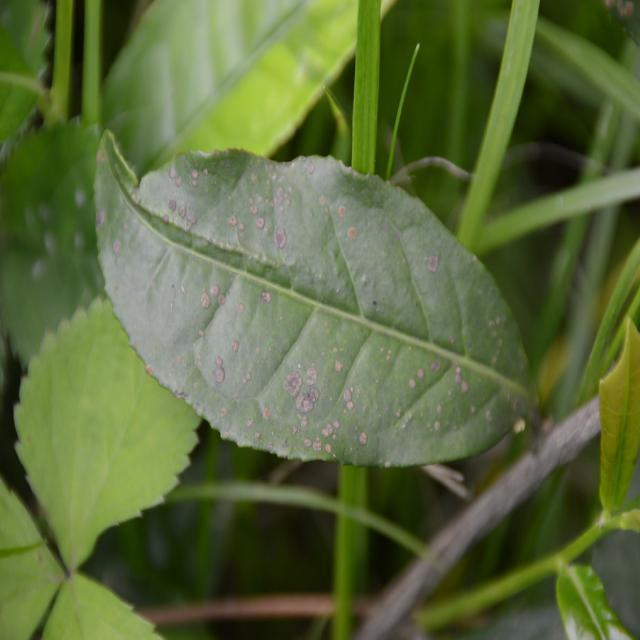Tea algae leaf spot: (117, 140, 490, 487)
